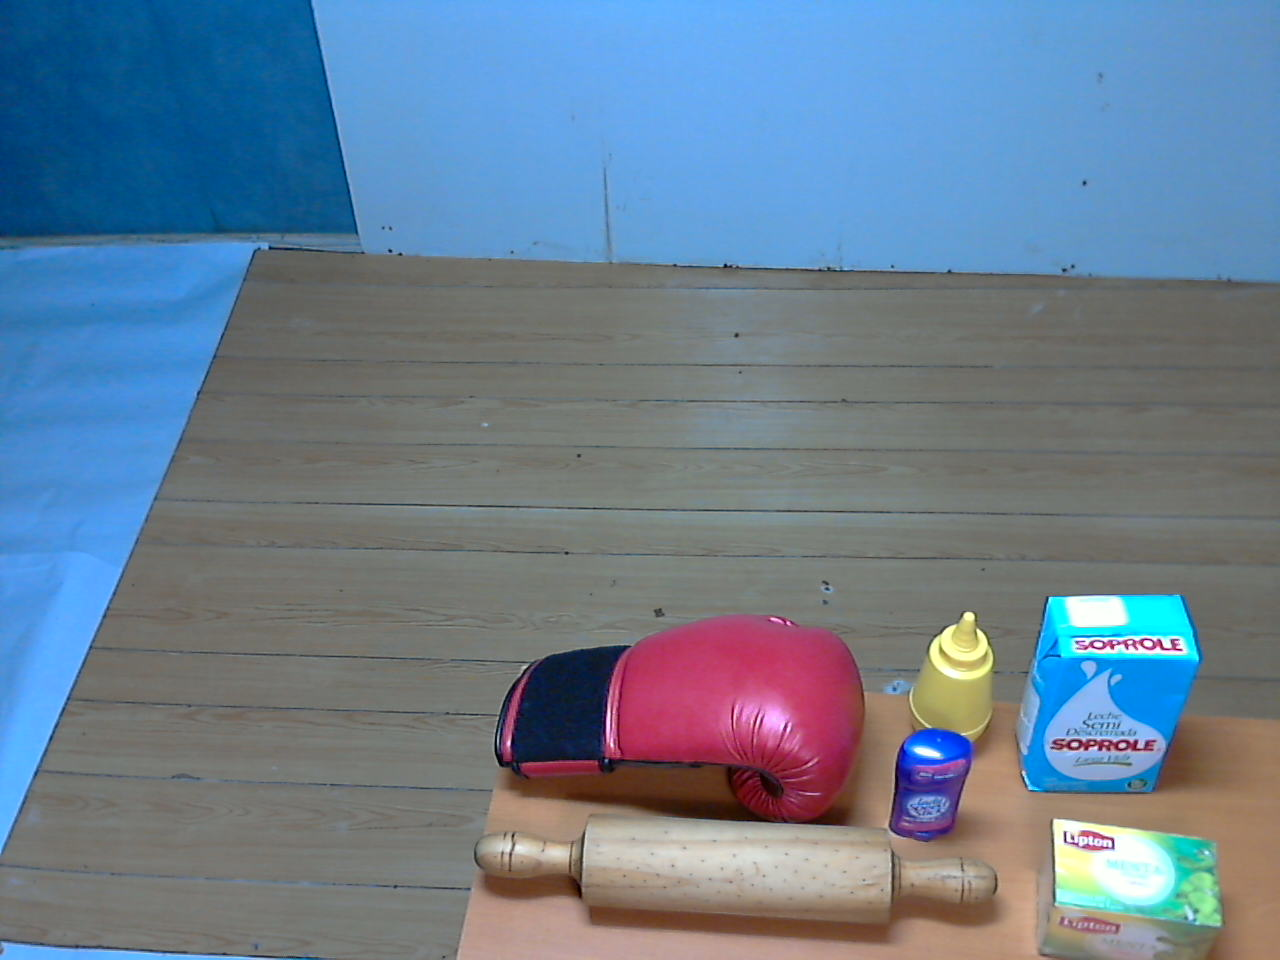desodorante: (880, 725, 979, 847)
guante: (491, 606, 871, 831)
leche: (1002, 581, 1205, 806)
mostaza: (905, 601, 1005, 758)
te: (1021, 801, 1239, 960)
uslero: (473, 794, 1011, 951)
